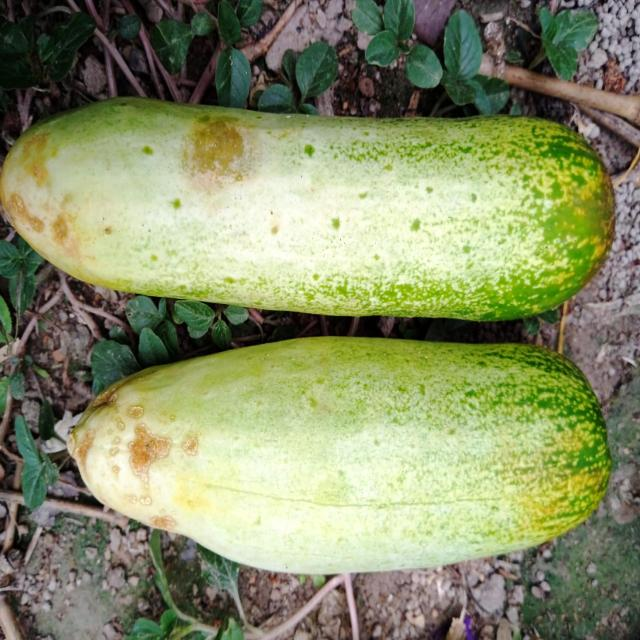Belly-Rot: (77, 378, 207, 538), (0, 125, 84, 266), (166, 109, 272, 197)
